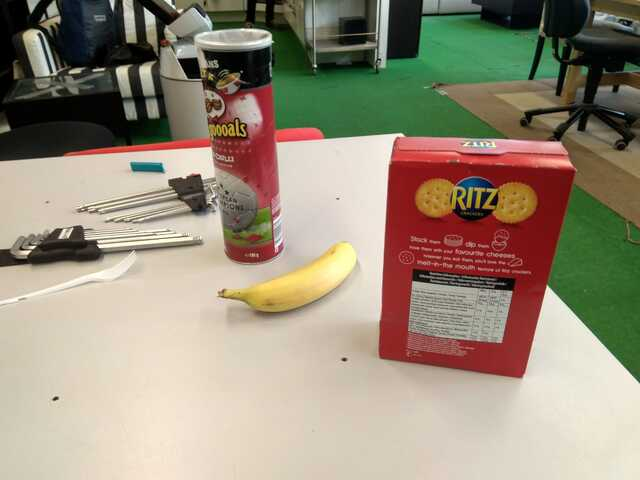001_chips_can: (193, 26, 288, 268)
003_cracker_box: (378, 132, 580, 382)
011_banana: (216, 240, 363, 317)
